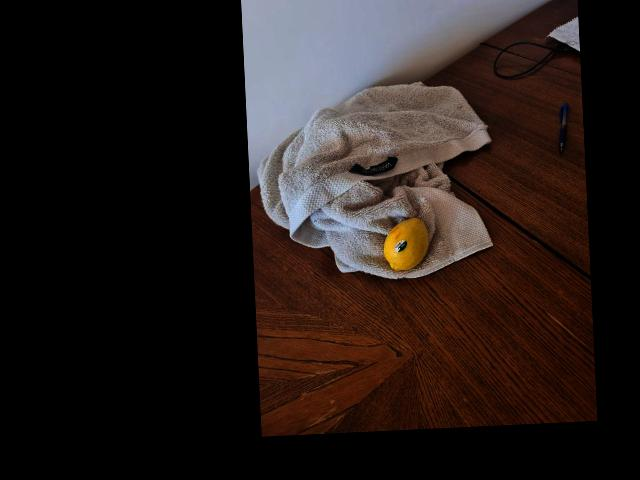lemon: (381, 218, 430, 274)
